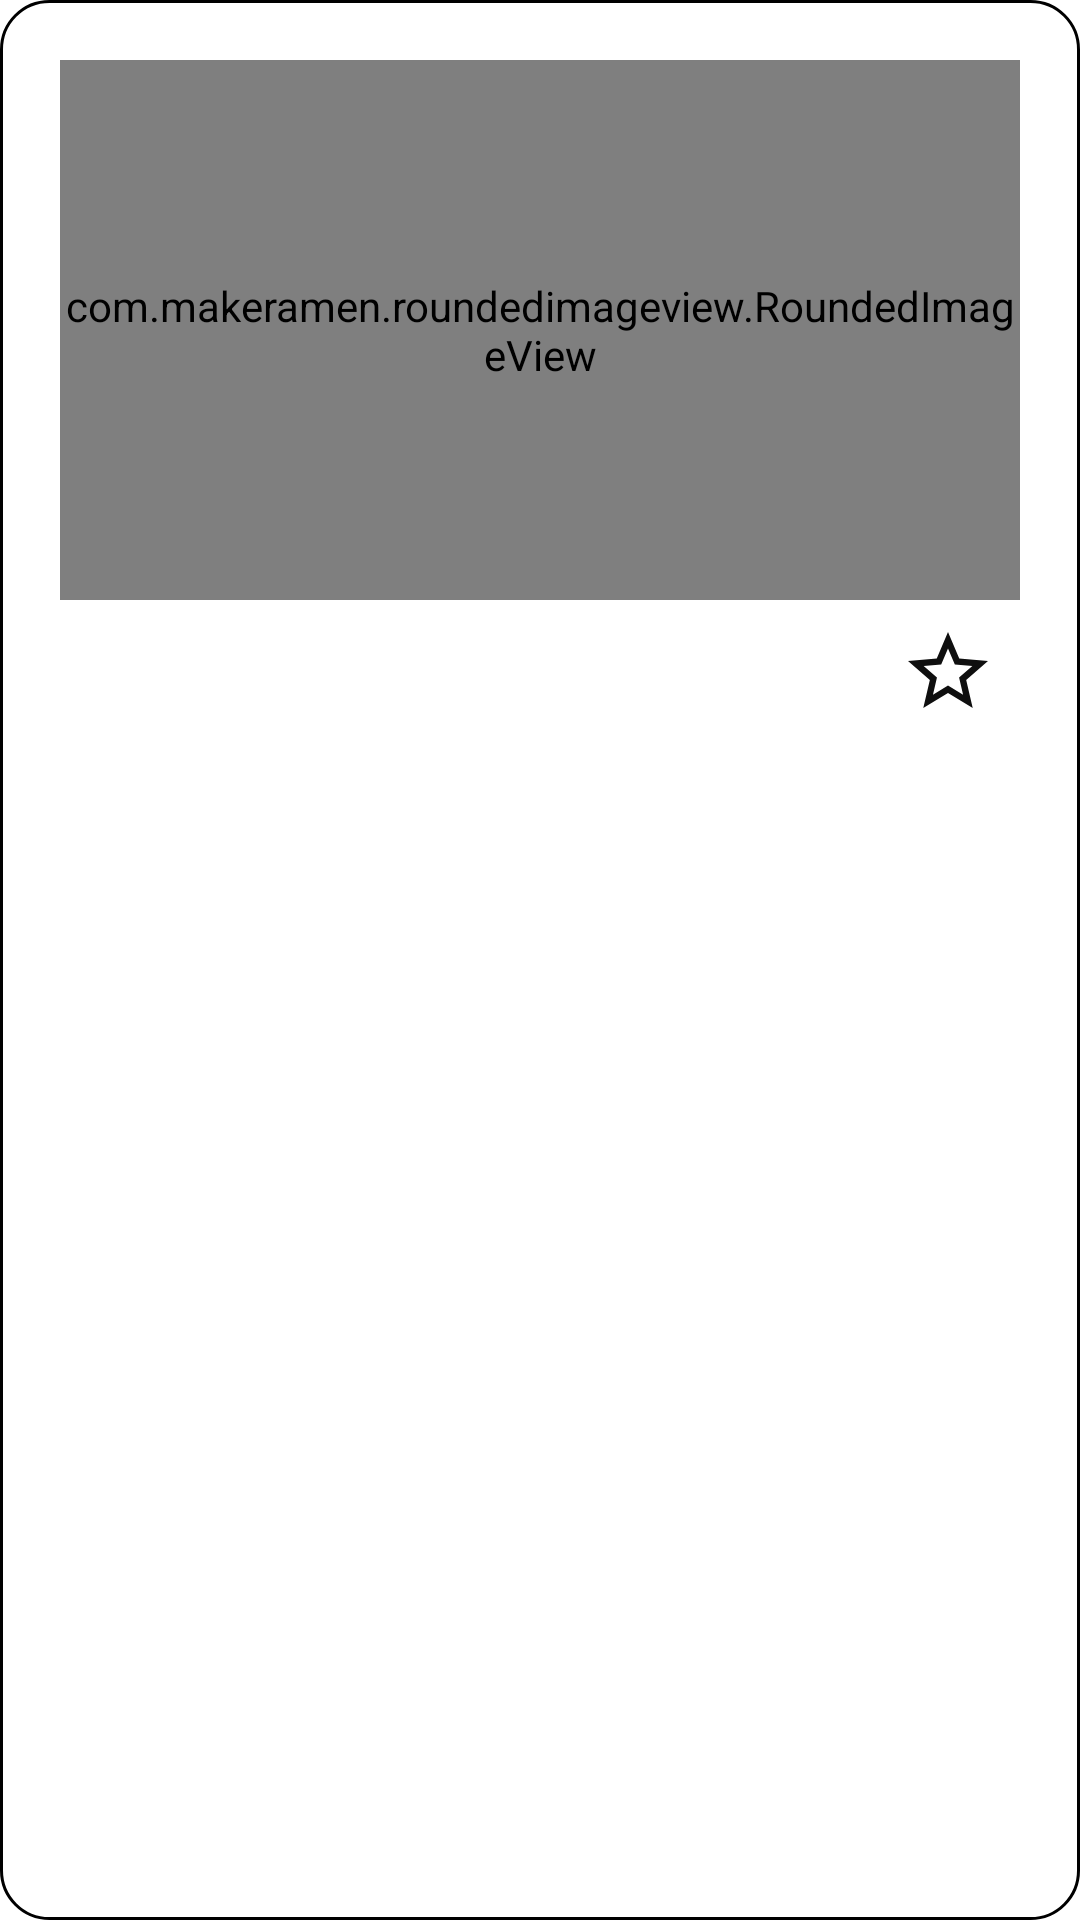

Named icons in this screenshot (1080x1920) and their bounding boxes, {"left": x1, "top": y1, "right": x2, "bottom": y2}:
favorites list: {"left": 908, "top": 632, "right": 988, "bottom": 708}
